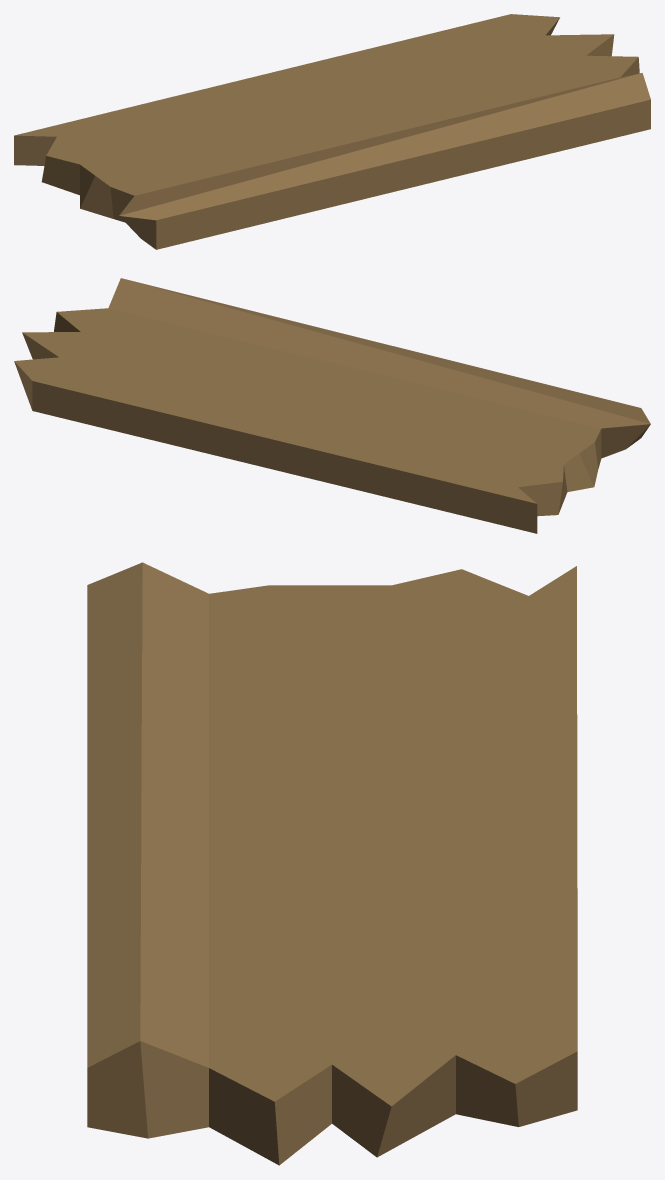
File: brokenplank2.fbx
3 views of the same model, one above another, from view 1: azimuth 30°, elevation 25°; view 2: azimuth 150°, elevation 25°; view 3: azimuth 270°, elevation 25° (orthographic). The views are drawn at different scales.
Parts seen in each view (by area): view 1: Cube; view 2: Cube; view 3: Cube.
Part boxes in pixels (x1,y1,x2,y2): Cube: [14, 14, 650, 249]; Cube: [14, 278, 650, 533]; Cube: [87, 562, 577, 1165].
Size of the model in its own units: 394 by 31.32 by 150.
